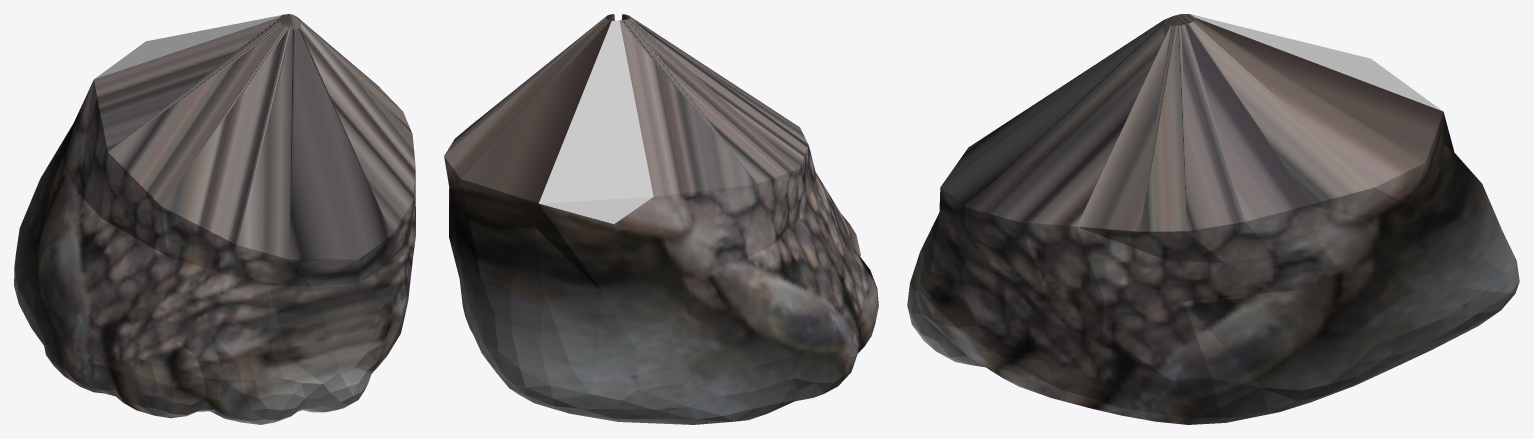
Rendered from Tortoise_LeftRearleg_new.dae.
The picture shows the model from 3 angles, left to right: view 1: azimuth 30°, elevation 25°; view 2: azimuth 150°, elevation 25°; view 3: azimuth 270°, elevation 25°; orthographic projection. The views are drawn at different scales.
Visible parts, largest first — view 1: tortoise_004; view 2: tortoise_004; view 3: tortoise_004.
Part boxes in pixels (x1,y1,x2,y2): tortoise_004: [14, 14, 415, 424]; tortoise_004: [444, 14, 878, 424]; tortoise_004: [907, 14, 1519, 424].
Size of the model in its own units: 2.87 by 3.75 by 2.55.
2 materials, 1 textured.
